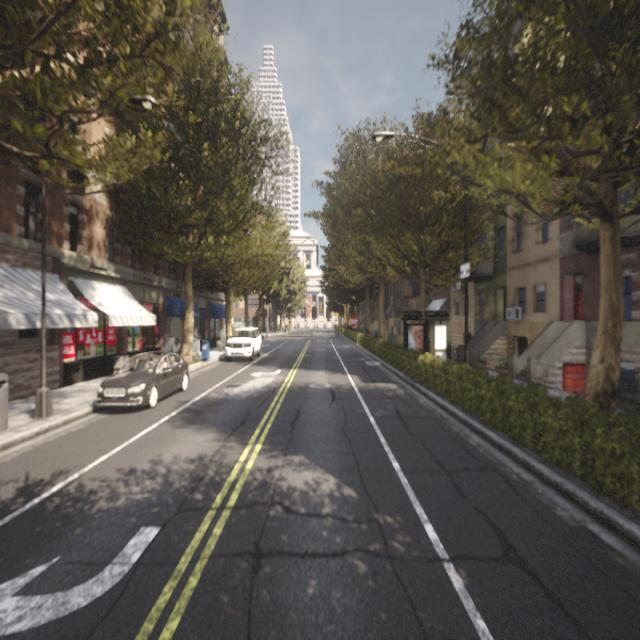stop sign: (348, 311, 359, 333)
